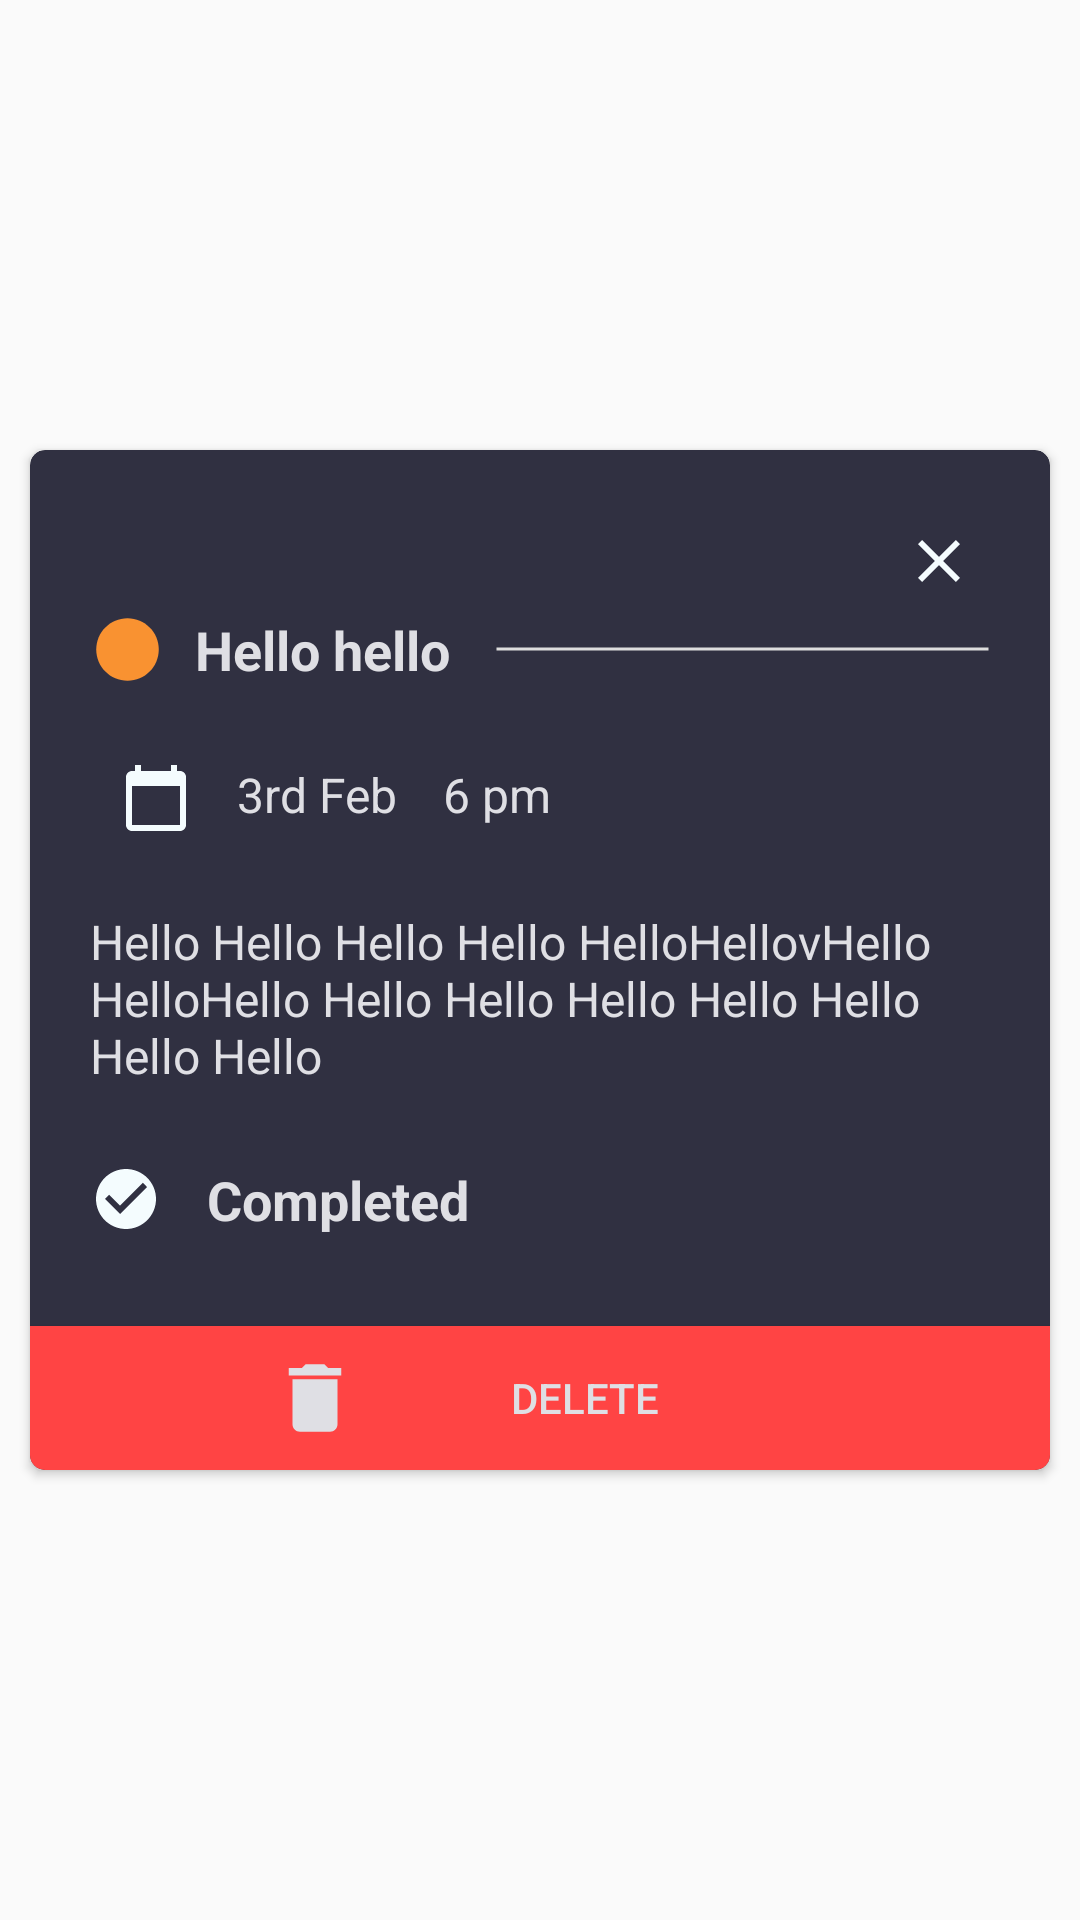

Icon click points for this 1080px×1920px phone screenshot, format (x,y):
calendar today: (156,798)
check circle: (126,1199)
clear: (939,561)
